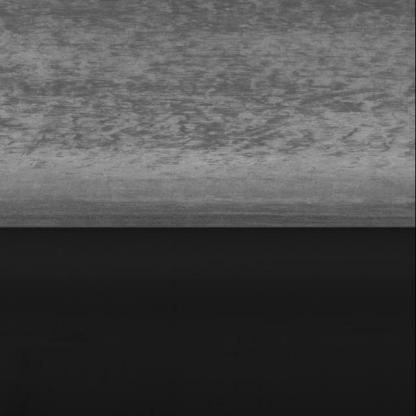silk_spot: (25, 0, 396, 171)
